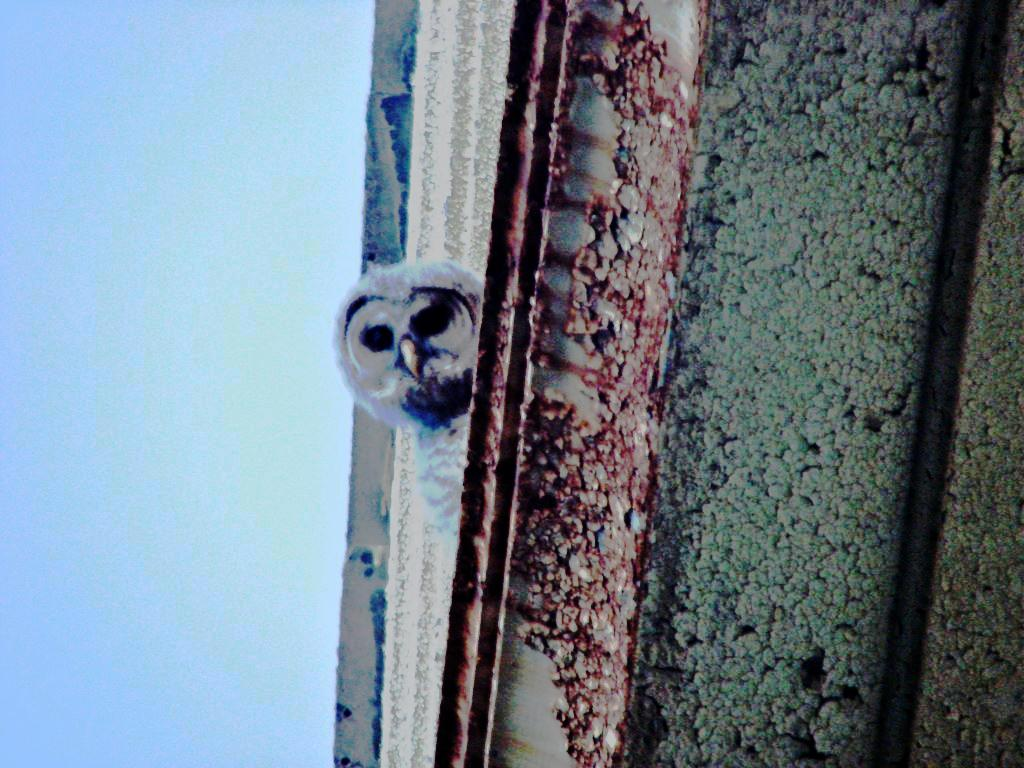Owl: (327, 252, 491, 579)
